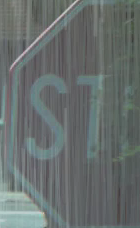Stop: (14, 16, 130, 201)
